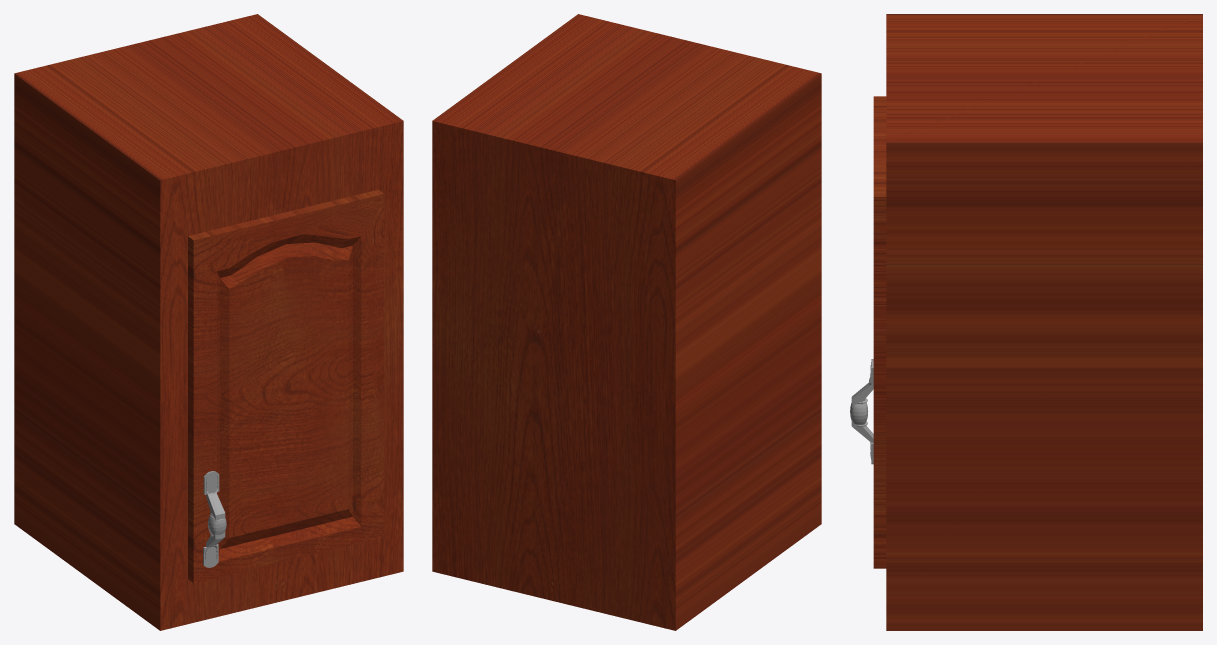
The model's file is 1DoorUpperCabinet.obj.
3 renders of one model, left to right at view 1: azimuth 30°, elevation 25°; view 2: azimuth 150°, elevation 25°; view 3: azimuth 270°, elevation 25°, orthographic. The views are drawn at different scales.
Parts seen in each view (by area): view 1: PolyMesh_10.001, Curvedtopcabinet.001, verthandle_3.001; view 2: PolyMesh_10.001; view 3: PolyMesh_10.001, Curvedtopcabinet.001, verthandle_3.001.
Boxes of the visible parts, x1,y1,x2,y2 form: PolyMesh_10.001: (14,14,403,630); Curvedtopcabinet.001: (188,189,384,583); verthandle_3.001: (203,471,225,567); PolyMesh_10.001: (432,14,821,630); PolyMesh_10.001: (886,14,1202,630); Curvedtopcabinet.001: (873,96,886,568); verthandle_3.001: (851,359,873,464).
Size of the model in its own units: 3.39 by 6 by 3.93.
